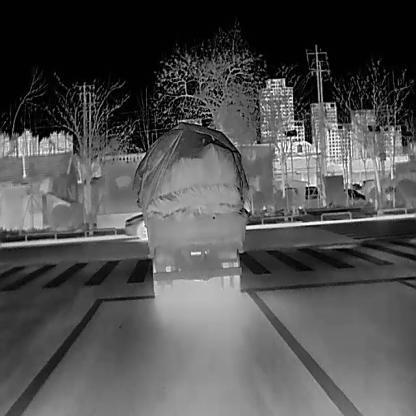car: (132, 122, 250, 296), (319, 173, 343, 206), (304, 185, 319, 199)
crosswalk: (248, 238, 416, 277), (0, 253, 147, 288)
